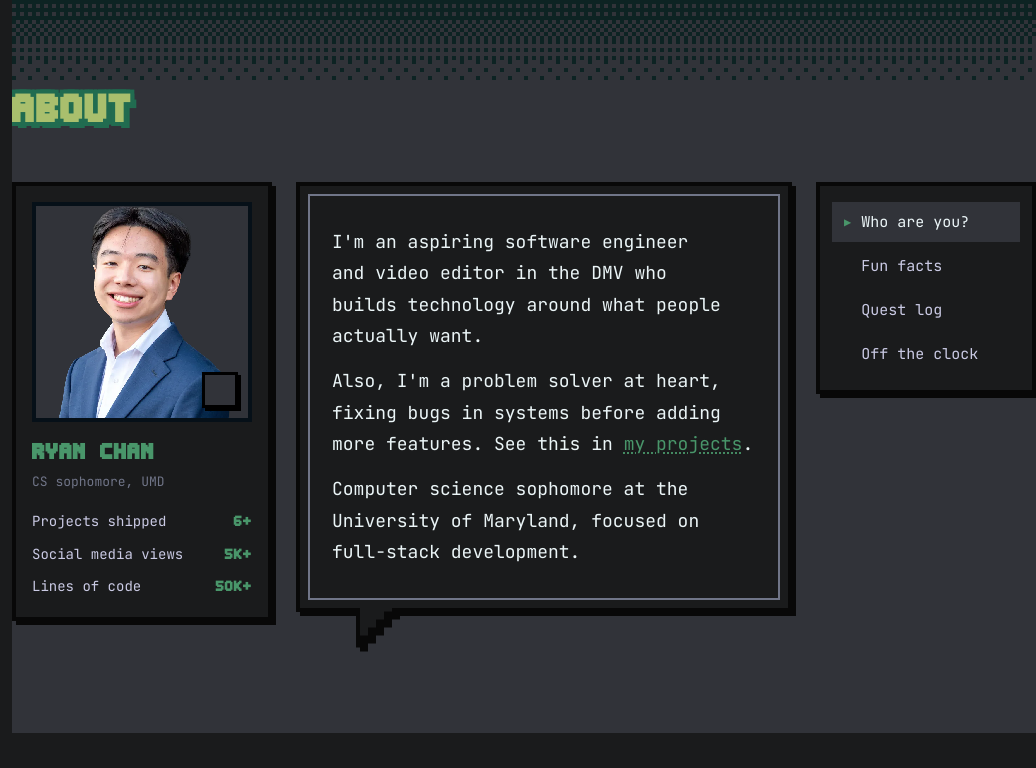
Test: About fun facts › closes on an outside mousedown
Click the button "Fun facts": (926, 266) [832, 246, 1020, 286]
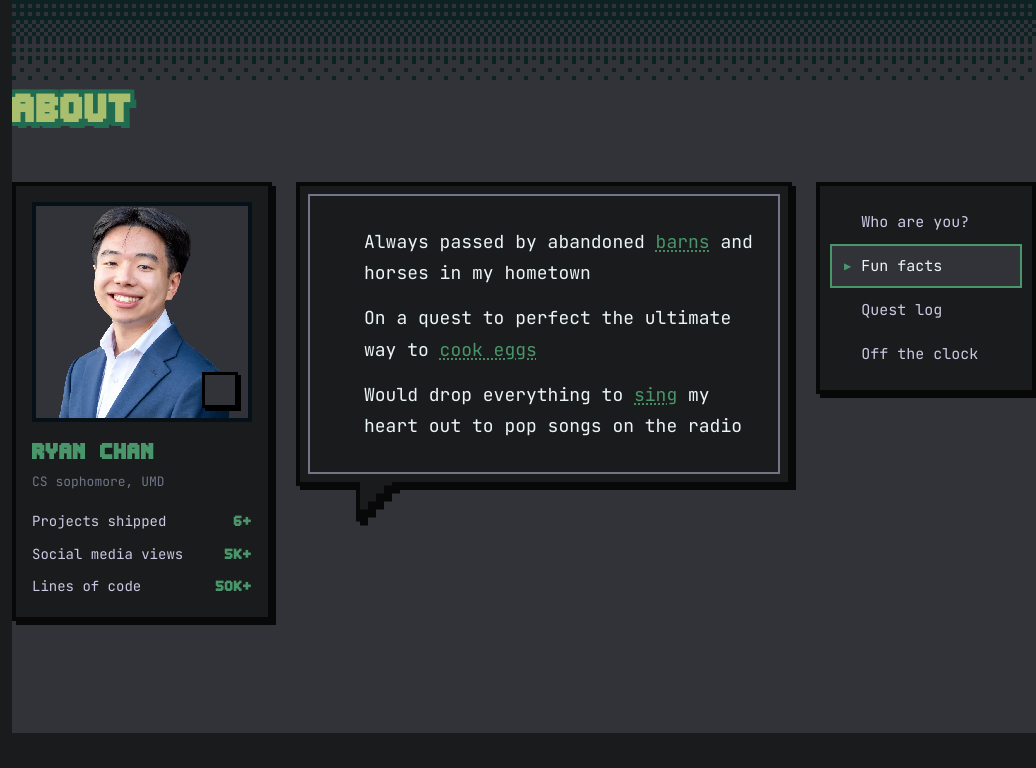
Click the button "barns": (683, 241) [656, 226, 710, 257]
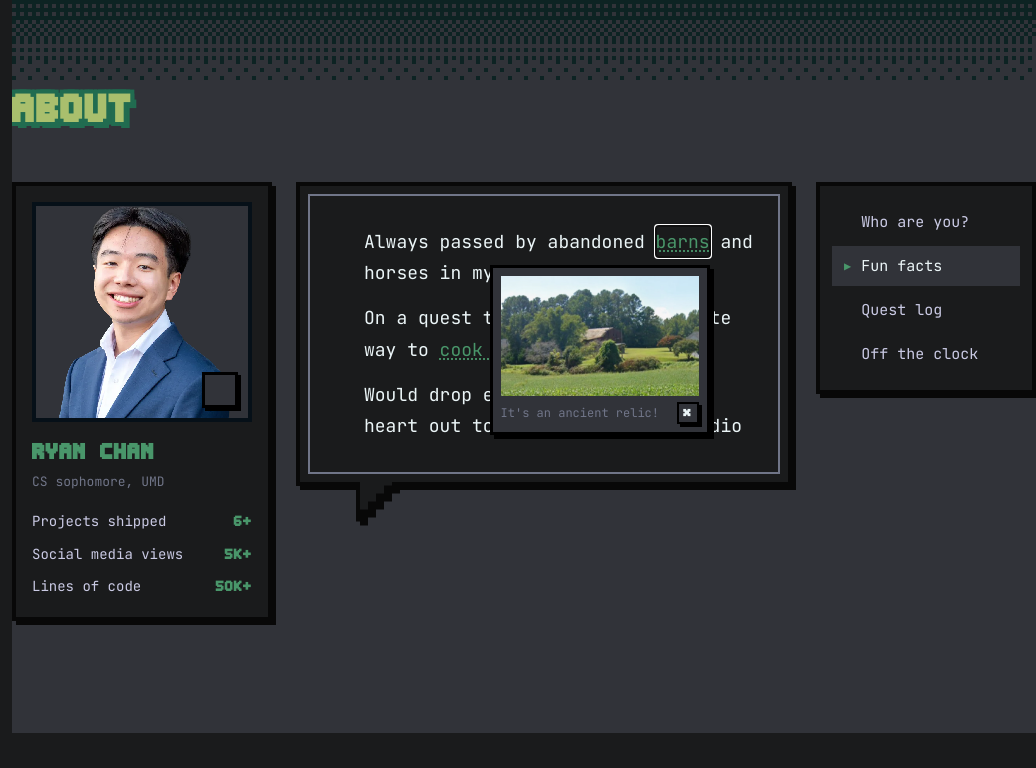
Click the element that starts with "About": (524, 384) [12, 0, 1035, 767]
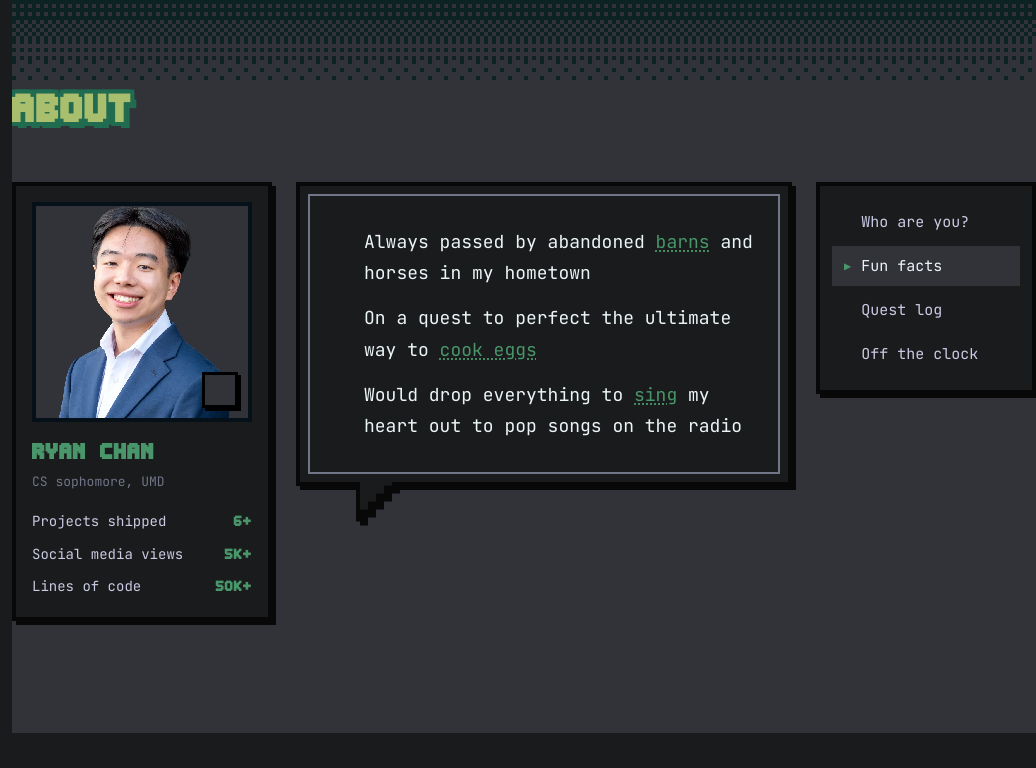
Check: the text "It's an ancient relic!" is gone
